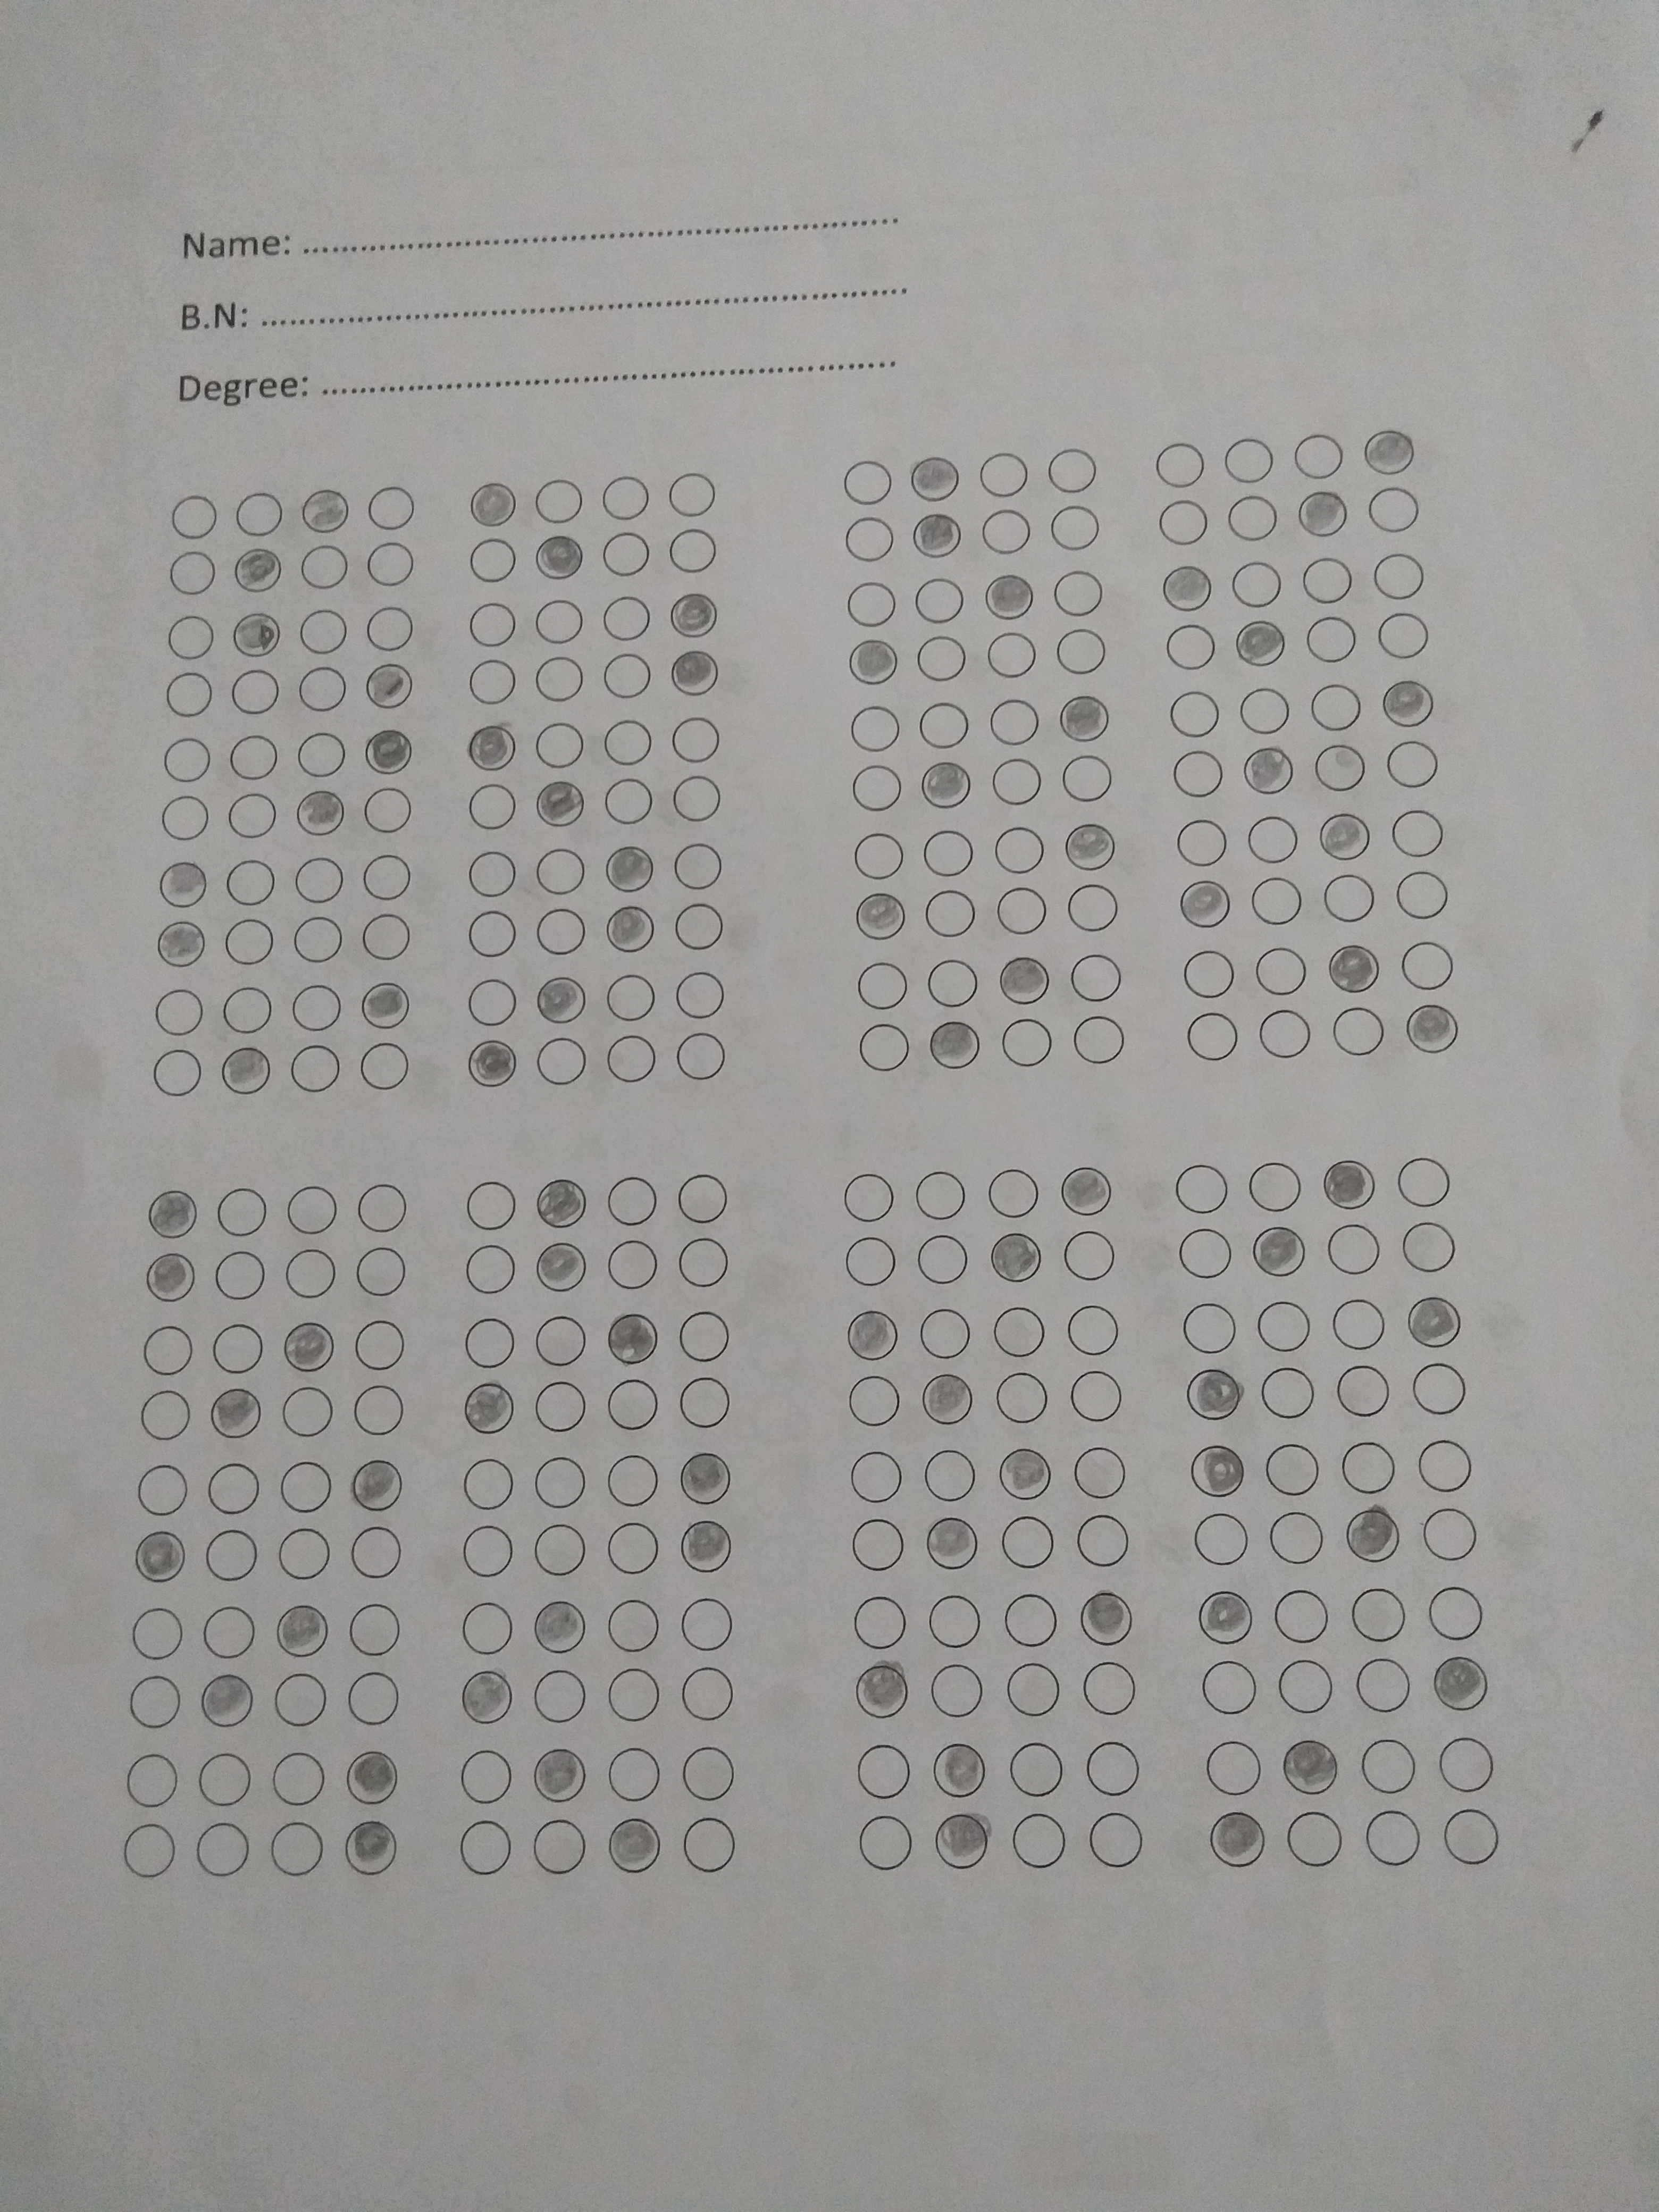not-c: (605, 970, 657, 1022), (227, 789, 281, 840), (160, 733, 214, 784), (167, 549, 221, 599), (230, 489, 284, 540), (357, 1040, 411, 1090), (289, 982, 343, 1033), (357, 913, 411, 963), (361, 784, 415, 834), (533, 719, 587, 770), (532, 655, 586, 705), (599, 529, 653, 580), (465, 535, 519, 585), (599, 472, 653, 523), (532, 477, 586, 528), (465, 977, 519, 1028), (603, 718, 657, 768), (533, 1035, 587, 1085), (920, 827, 974, 878), (915, 634, 969, 685), (852, 831, 906, 881), (849, 763, 903, 813), (849, 704, 903, 754), (847, 577, 901, 627), (1049, 503, 1103, 554), (843, 514, 897, 564), (1046, 446, 1100, 496), (840, 458, 894, 509), (1066, 883, 1121, 934), (924, 888, 978, 939), (990, 756, 1044, 806), (1053, 568, 1107, 618), (857, 1022, 911, 1073), (925, 958, 979, 1008), (1303, 613, 1358, 664), (1164, 622, 1218, 672), (1300, 556, 1354, 606), (1291, 432, 1345, 482), (1222, 437, 1276, 488), (1391, 808, 1445, 859), (1401, 1223, 1455, 1273), (1248, 1162, 1302, 1212), (1401, 939, 1455, 989), (1429, 1588, 1483, 1639), (1004, 1517, 1058, 1568), (1422, 1510, 1476, 1561), (847, 1451, 901, 1501), (924, 1451, 978, 1501), (917, 1310, 971, 1360), (1066, 1305, 1121, 1355), (1256, 1303, 1310, 1353), (840, 1237, 894, 1287), (913, 1170, 967, 1221), (986, 1167, 1040, 1217), (1331, 1299, 1385, 1350), (676, 1176, 730, 1226), (1361, 1742, 1415, 1792), (1206, 1743, 1260, 1794), (1009, 1743, 1063, 1794), (857, 1747, 911, 1797), (1276, 1590, 1330, 1641), (532, 1456, 586, 1507), (281, 1386, 335, 1437), (211, 1324, 265, 1374), (681, 1749, 735, 1799), (606, 1750, 660, 1801), (678, 1669, 732, 1719), (458, 1602, 512, 1653), (345, 1672, 399, 1723), (200, 1606, 254, 1656), (131, 1608, 185, 1658), (204, 1529, 258, 1580), (125, 1756, 179, 1806), (272, 1754, 326, 1804), (150, 1047, 202, 1097), (227, 733, 279, 784), (298, 664, 350, 714), (228, 667, 281, 718), (364, 604, 416, 655), (296, 606, 349, 657), (166, 610, 218, 660), (221, 984, 274, 1035), (223, 857, 275, 907), (289, 1043, 342, 1094), (674, 1031, 727, 1082), (599, 651, 652, 702), (599, 592, 652, 643), (666, 524, 718, 575), (674, 970, 727, 1021), (535, 845, 587, 895), (467, 848, 519, 899), (669, 775, 721, 826), (601, 775, 653, 826), (467, 780, 519, 831), (669, 716, 721, 766), (605, 1035, 657, 1085), (986, 631, 1039, 681), (918, 702, 971, 752), (993, 826, 1046, 876), (1061, 754, 1114, 805), (1000, 1017, 1053, 1068), (1310, 683, 1363, 733), (1169, 690, 1222, 740), (1378, 611, 1431, 662), (1373, 550, 1425, 601), (1230, 559, 1283, 610), (1366, 484, 1419, 535), (1225, 495, 1277, 545), (1323, 873, 1375, 923), (1176, 819, 1229, 869), (1314, 744, 1366, 794), (1396, 1157, 1448, 1207), (1333, 1007, 1385, 1057), (1258, 1008, 1310, 1059), (1183, 949, 1236, 1000), (1256, 946, 1309, 996), (1396, 869, 1448, 920), (1178, 1230, 1230, 1280), (852, 1519, 904, 1569), (1417, 1440, 1469, 1491), (849, 1376, 901, 1426), (1337, 1366, 1389, 1416), (1183, 1305, 1236, 1355), (917, 1233, 969, 1284), (605, 1176, 657, 1226), (859, 1817, 911, 1867), (1356, 1660, 1408, 1710), (1277, 1660, 1330, 1710), (929, 1665, 981, 1716), (929, 1595, 981, 1646), (1354, 1590, 1406, 1641), (134, 1465, 186, 1515), (206, 1463, 258, 1514), (279, 1461, 331, 1512), (606, 1524, 659, 1575), (462, 1526, 514, 1576), (462, 1458, 514, 1508), (681, 1378, 734, 1428), (680, 1312, 732, 1362), (535, 1315, 587, 1366), (460, 1318, 512, 1369), (138, 1390, 190, 1440), (354, 1245, 406, 1296), (284, 1249, 336, 1299), (214, 1251, 267, 1301), (359, 1184, 411, 1235), (284, 1184, 336, 1235), (214, 1188, 267, 1238), (464, 1244, 516, 1294), (462, 1752, 514, 1803), (606, 1669, 659, 1719), (127, 1677, 179, 1728), (274, 1674, 326, 1724), (347, 1604, 399, 1655), (277, 1529, 329, 1580), (122, 1825, 174, 1876), (197, 1824, 249, 1874), (167, 493, 221, 542), (362, 540, 416, 589), (296, 543, 350, 592), (364, 482, 418, 531), (221, 918, 275, 967), (359, 853, 413, 902), (532, 597, 586, 646), (464, 601, 518, 650), (666, 470, 720, 519), (671, 902, 725, 951), (464, 909, 518, 958), (671, 843, 725, 892), (978, 509, 1032, 557), (993, 887, 1047, 935), (1054, 627, 1108, 676), (1068, 954, 1122, 1003), (1154, 441, 1208, 489), (1385, 740, 1439, 789), (1176, 1165, 1230, 1214), (1187, 1012, 1241, 1061), (1272, 1514, 1326, 1562), (1342, 1444, 1396, 1493), (1068, 1372, 1122, 1421), (1262, 1369, 1316, 1418), (1412, 1364, 1466, 1413), (992, 1308, 1046, 1357), (842, 1174, 896, 1223), (464, 1181, 518, 1230), (1445, 1811, 1499, 1860), (1366, 1813, 1420, 1862), (1087, 1817, 1141, 1865), (1011, 1817, 1065, 1865), (1086, 1743, 1140, 1792), (852, 1597, 906, 1646), (532, 1526, 586, 1575), (606, 1456, 660, 1505), (533, 1381, 587, 1430), (606, 1379, 660, 1428), (354, 1320, 408, 1369), (676, 1238, 730, 1287), (460, 1824, 514, 1872), (532, 1672, 586, 1721), (160, 792, 213, 841), (296, 732, 349, 780), (164, 671, 216, 719), (153, 988, 206, 1036), (293, 914, 345, 963), (293, 855, 345, 904), (467, 658, 519, 707), (535, 907, 587, 956), (1073, 1015, 1126, 1064), (915, 577, 967, 625), (978, 451, 1030, 500), (857, 961, 910, 1010), (988, 697, 1040, 745), (1328, 1224, 1380, 1273), (1173, 751, 1225, 799), (1239, 688, 1291, 737), (1157, 500, 1209, 549), (1251, 876, 1303, 925), (1248, 815, 1300, 864), (1079, 1517, 1131, 1566), (1194, 1512, 1246, 1561), (1072, 1449, 1124, 1498), (1263, 1444, 1316, 1493), (993, 1374, 1046, 1423), (1063, 1231, 1115, 1280), (1290, 1815, 1342, 1864), (1439, 1742, 1492, 1791), (1204, 1663, 1256, 1712), (1082, 1663, 1134, 1712), (1007, 1665, 1060, 1714), (1004, 1595, 1056, 1644), (352, 1385, 404, 1433), (141, 1325, 193, 1374), (605, 1240, 657, 1289), (680, 1601, 732, 1649), (606, 1602, 659, 1651), (350, 1527, 403, 1576), (272, 1824, 324, 1872), (199, 1756, 251, 1804), (681, 1820, 734, 1869), (533, 1820, 586, 1869)
taken-c: (1431, 1653, 1490, 1712), (1281, 1738, 1340, 1797), (924, 1514, 981, 1573), (1077, 1590, 1136, 1648), (934, 1813, 992, 1871), (1209, 1810, 1267, 1867), (343, 1818, 399, 1878), (608, 1817, 662, 1878), (1248, 1224, 1309, 1278), (197, 1672, 254, 1728), (854, 1660, 910, 1717), (931, 1742, 988, 1797), (1185, 1367, 1243, 1423), (1188, 1444, 1246, 1500), (1345, 1507, 1401, 1564), (132, 1529, 188, 1585), (532, 1599, 587, 1655), (680, 1449, 735, 1505), (999, 1446, 1054, 1501), (1405, 1000, 1460, 1055), (347, 1749, 401, 1806), (605, 1312, 662, 1366), (843, 1306, 901, 1360), (1408, 1292, 1462, 1350), (1195, 1590, 1253, 1644), (275, 1604, 329, 1660), (920, 1372, 976, 1426), (1326, 941, 1380, 996), (535, 1747, 587, 1804), (927, 1017, 981, 1071), (458, 1670, 512, 1724), (680, 1517, 734, 1571), (462, 1381, 516, 1435), (990, 1230, 1044, 1284), (1056, 691, 1112, 744), (995, 954, 1051, 1007), (209, 1386, 261, 1442), (1058, 1165, 1115, 1216), (854, 892, 908, 944), (143, 1252, 197, 1305), (282, 1320, 336, 1372), (350, 1460, 403, 1514), (535, 1238, 587, 1292), (1380, 678, 1436, 728), (1323, 1160, 1378, 1211), (1065, 820, 1117, 873), (148, 1188, 200, 1240), (535, 1179, 587, 1231), (1234, 618, 1288, 669), (1317, 812, 1373, 860), (467, 723, 519, 773), (605, 843, 657, 894), (910, 455, 962, 505), (983, 571, 1035, 622), (847, 637, 899, 688), (535, 975, 587, 1026), (920, 761, 974, 810), (1161, 564, 1215, 613), (1243, 745, 1297, 794), (1178, 878, 1232, 927), (364, 660, 415, 711), (364, 726, 415, 777), (361, 981, 411, 1031), (160, 857, 209, 909), (669, 648, 721, 697), (605, 904, 657, 953), (467, 1040, 519, 1089), (1363, 428, 1417, 475), (666, 592, 721, 637), (296, 789, 347, 838), (155, 920, 206, 968), (537, 779, 586, 829), (223, 1045, 272, 1096), (1298, 489, 1349, 538), (234, 610, 282, 658), (535, 535, 586, 582), (911, 512, 962, 559), (301, 488, 350, 535), (234, 547, 282, 592), (469, 482, 518, 528)
